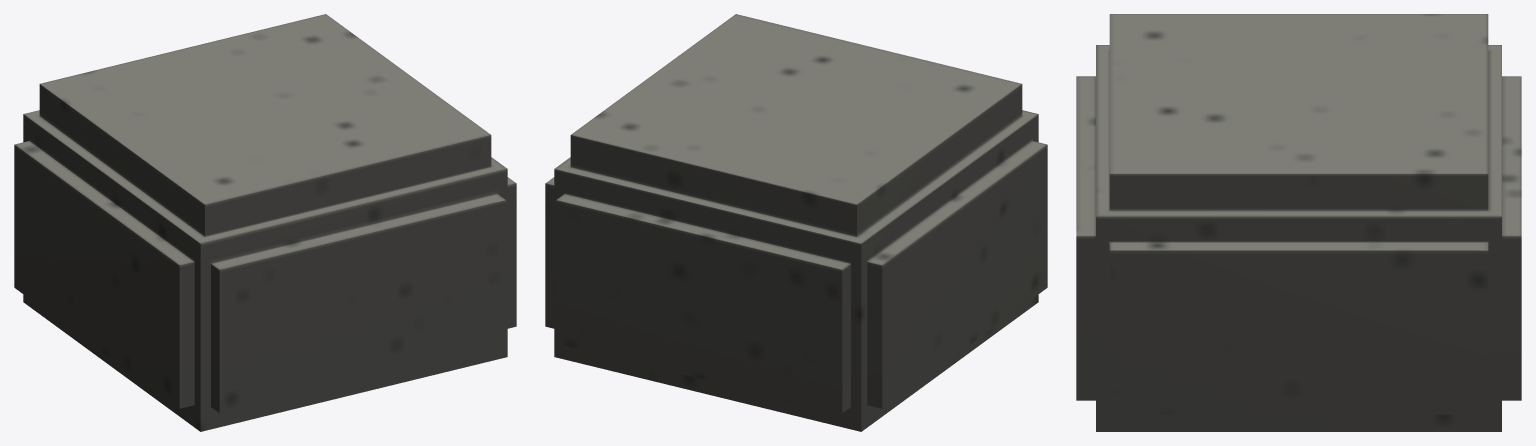
The model's file is Batu 7.fbx.
The picture shows the model from 3 angles, left to right: view 1: azimuth 30°, elevation 25°; view 2: azimuth 150°, elevation 25°; view 3: azimuth 270°, elevation 25°; orthographic projection. The views are drawn at different scales.
Visible parts, largest first — view 1: Batu 7; view 2: Batu 7; view 3: Batu 7.
Part boxes in pixels (x1=…): Batu 7: x1=14, y1=14, x2=516, y2=431; Batu 7: x1=545, y1=14, x2=1047, y2=431; Batu 7: x1=1076, y1=14, x2=1521, y2=431.
Size of the model in its own units: 80.37 by 50.22 by 80.37.
Materials: 1 (1 with a texture image).
